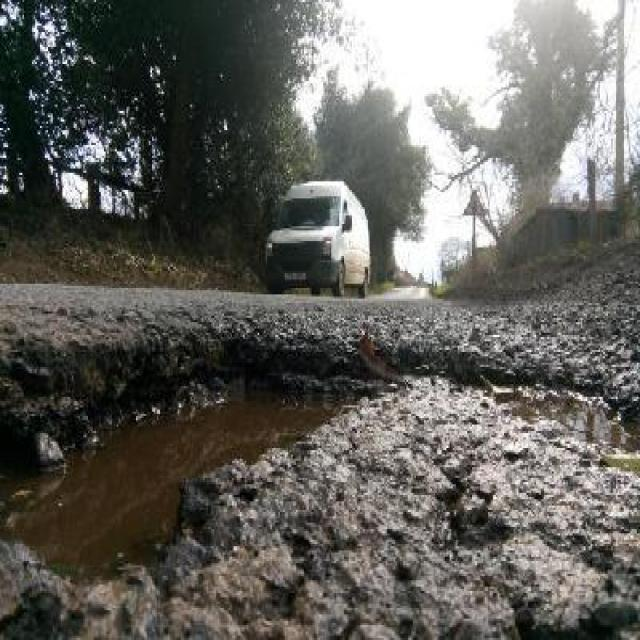pothole: (2, 330, 640, 603)
